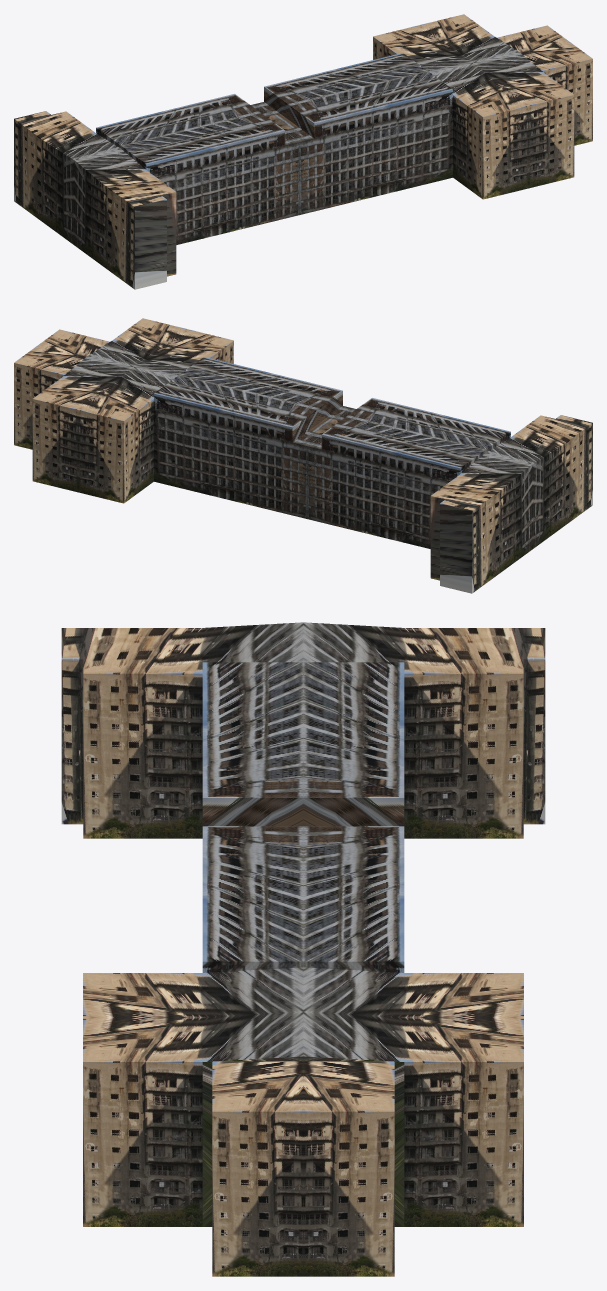
The model's file is PH_MOD_RuinedBuilding-A.FBX.
The picture shows the model from 3 angles, top to bottom: view 1: azimuth 30°, elevation 25°; view 2: azimuth 150°, elevation 25°; view 3: azimuth 270°, elevation 25°; orthographic projection. The views are drawn at different scales.
Parts seen in each view (by area): view 1: Box003; view 2: Box003; view 3: Box003.
Boxes of the visible parts, box(x1,y1,x2,y2) form: Box003: box(14, 14, 592, 289); Box003: box(14, 318, 592, 593); Box003: box(61, 622, 545, 1276).
Size of the model in its own units: 18188 by 3086 by 7685.
Materials: 1 (1 with a texture image).
